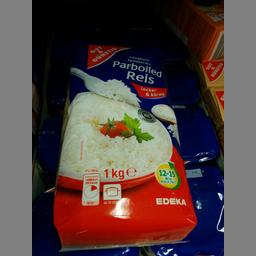rice: (54, 36, 196, 252)
